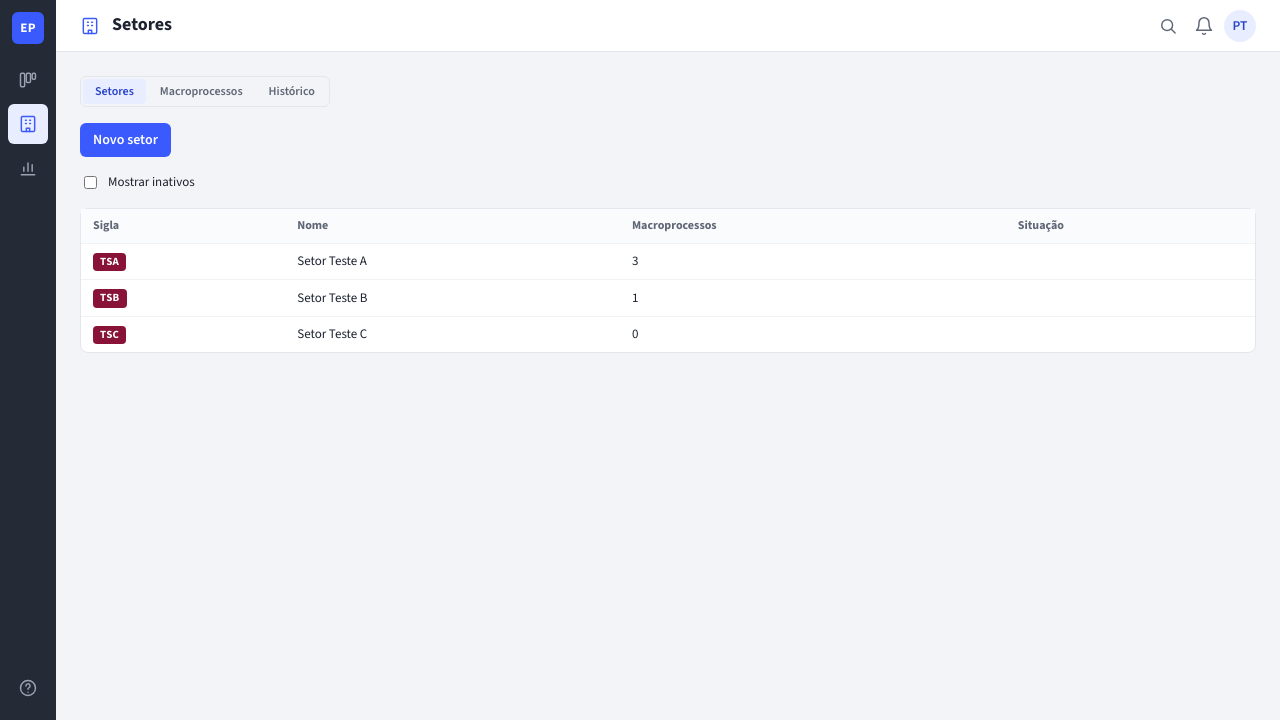
setor sem vínculos: a janela começa pelo histórico
This screenshot has width=1280, height=720.
Click the cell "Setor Teste C".
click(332, 334)  # box [285,317,620,352]
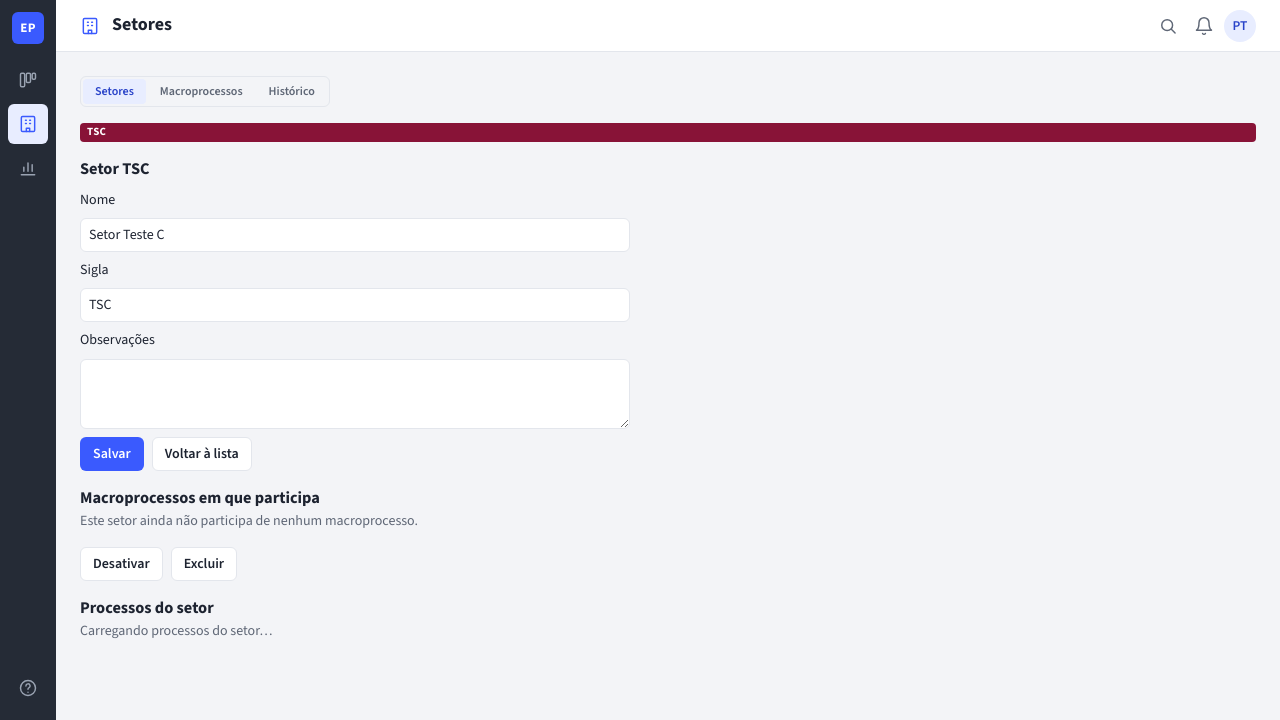
Click the button "Excluir".
click(204, 564)  # box [171,547,237,581]
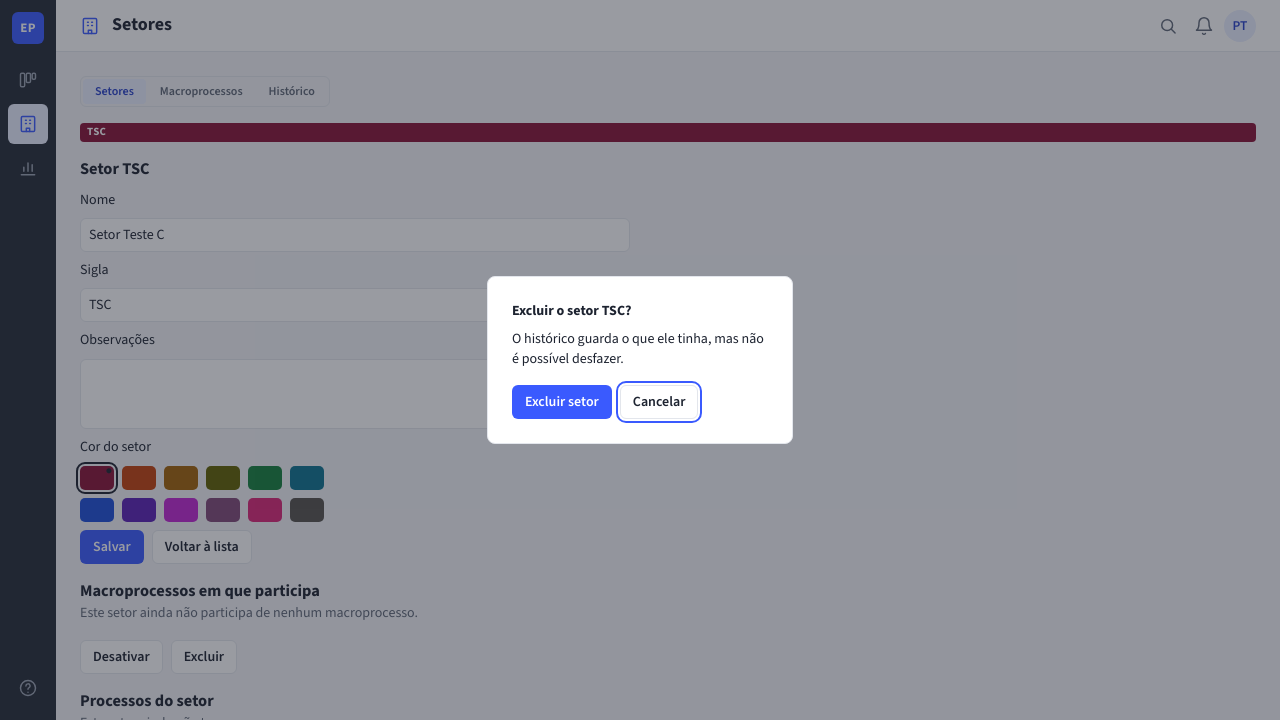
Now the text "O histórico guarda o que ele tinha, mas não é possível desfazer." is shown, box [512,329,768,369]
